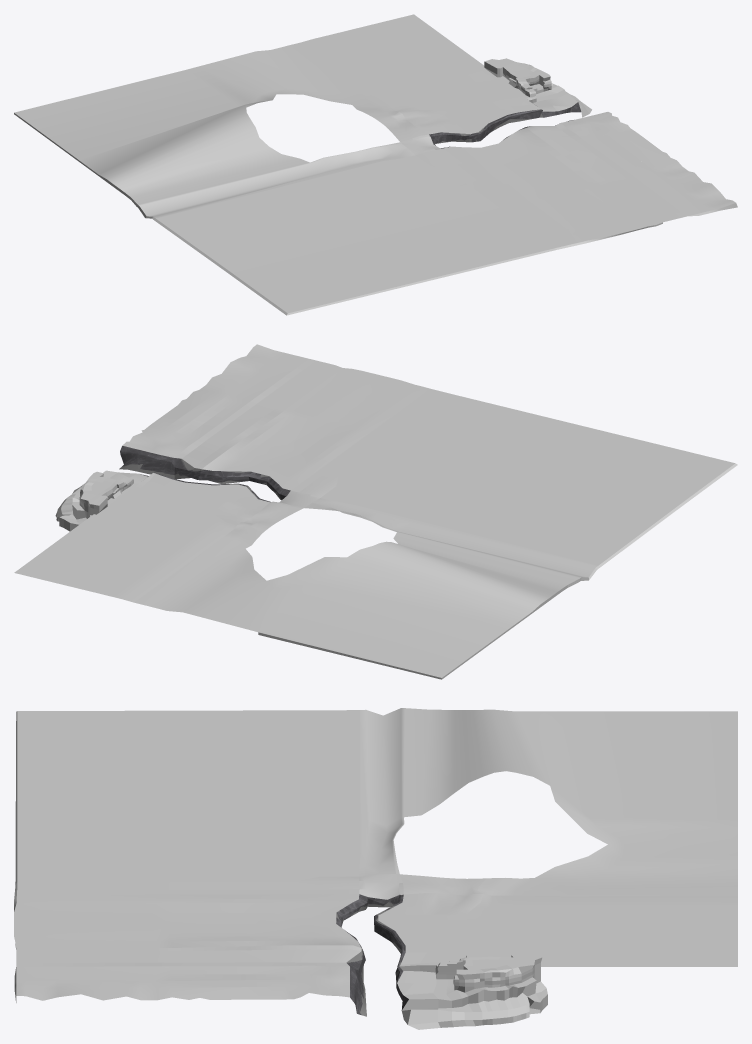
File: TerrainAndCliff.fbx
3 renders of one model, top to bottom at view 1: azimuth 30°, elevation 25°; view 2: azimuth 150°, elevation 25°; view 3: azimuth 270°, elevation 25°, orthographic. The views are drawn at different scales.
Parts seen in each view (by area): view 1: Terrain1, Cliff, RiverSides; view 2: Terrain1, RiverSides, Cliff; view 3: Terrain1, Cliff, RiverSides.
Boxes of the visible parts, x1,y1,x2,y2 form: Terrain1: [14, 14, 737, 315]; Cliff: [484, 58, 591, 117]; RiverSides: [429, 102, 581, 148]; Terrain1: [14, 344, 737, 679]; RiverSides: [119, 446, 290, 502]; Cliff: [55, 470, 147, 531]; Terrain1: [14, 708, 737, 1002]; Cliff: [397, 952, 547, 1029]; RiverSides: [336, 894, 408, 1016].
Size of the model in its own units: 23218 by 2193 by 24054.
